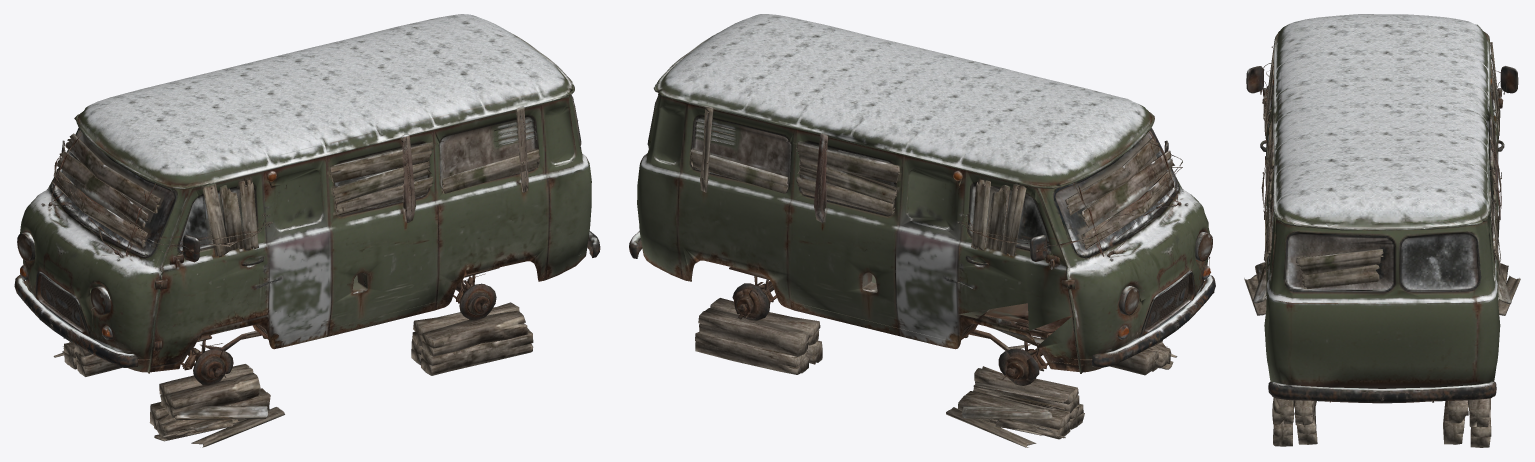
Rendered from jt_van_a.glb.
3 views of the same model, side by side, from view 1: azimuth 30°, elevation 25°; view 2: azimuth 150°, elevation 25°; view 3: azimuth 270°, elevation 25° (orthographic).
Size of the model in its own units: 0.9541 by 0.4814 by 0.4492.
Materials: 1 (1 with a texture image).
